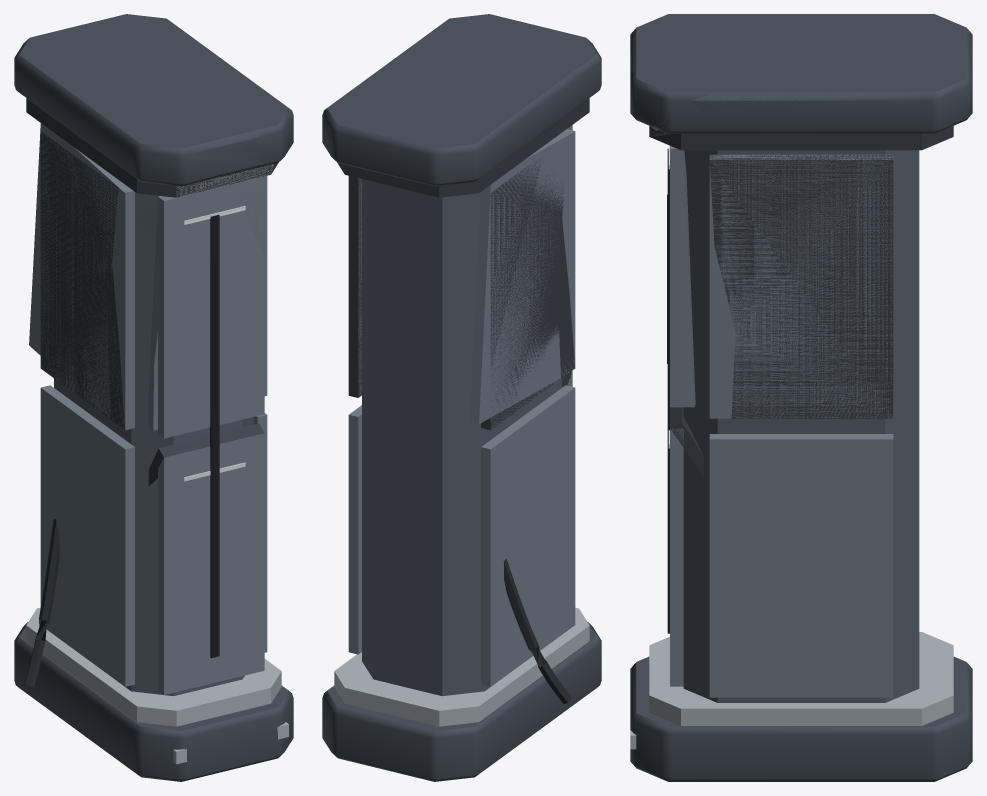
Rendered from hlx_cmp_support_column_a.glb.
3 renders of one model, left to right at view 1: azimuth 30°, elevation 25°; view 2: azimuth 150°, elevation 25°; view 3: azimuth 270°, elevation 25°, orthographic. The views are drawn at different scales.
Visible parts, largest first — view 1: mesh_intact, mesh_heavy, mesh_light; view 2: mesh_heavy, mesh_light, mesh_intact; view 3: mesh_heavy, mesh_intact, mesh_light.
Part boxes in pixels (left/top/right/bottom): mesh_intact: left=40, top=19, right=293, bottom=695; mesh_heavy: left=14, top=14, right=293, bottom=781; mesh_light: left=29, top=123, right=253, bottom=695; mesh_heavy: left=322, top=19, right=601, bottom=781; mesh_light: left=349, top=131, right=572, bottom=695; mesh_intact: left=329, top=14, right=596, bottom=689; mesh_heavy: left=630, top=14, right=972, bottom=781; mesh_intact: left=630, top=14, right=930, bottom=697; mesh_light: left=668, top=145, right=919, bottom=702.
Size of the model in its own units: 0.3275 by 1 by 0.45.
